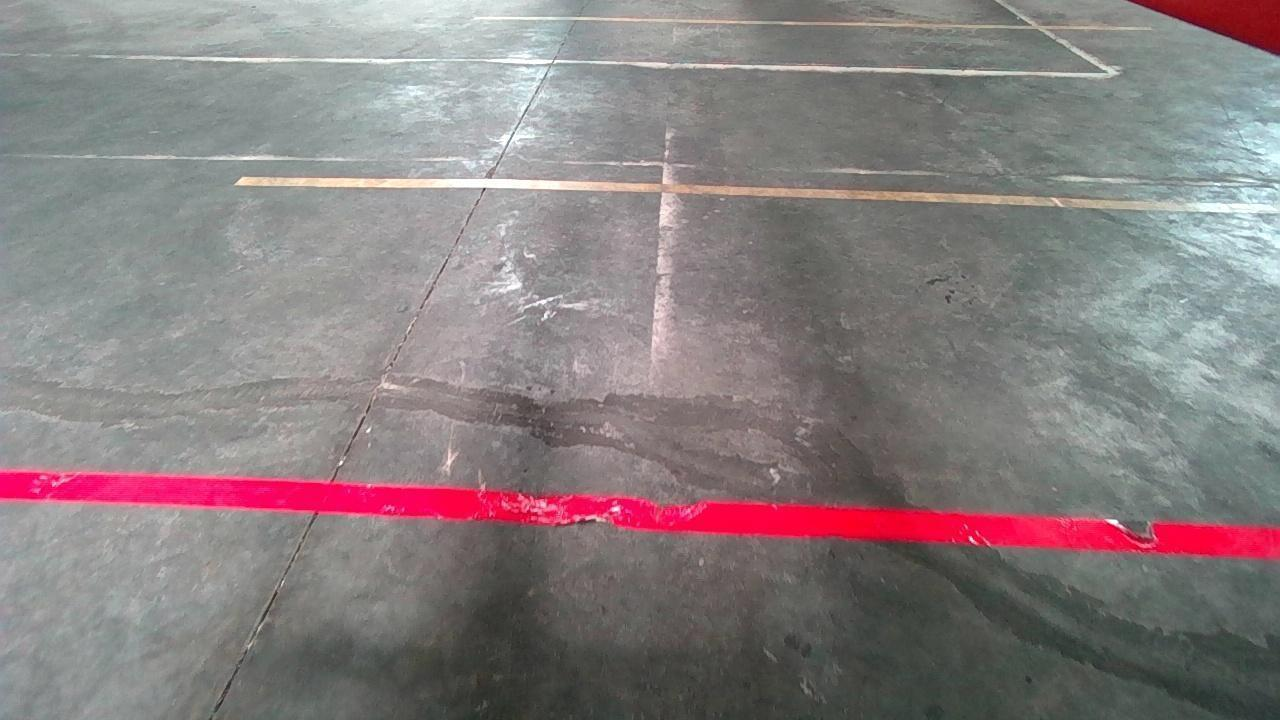red_line: (0, 465, 1280, 555)
yellow_line: (231, 174, 1280, 215)
